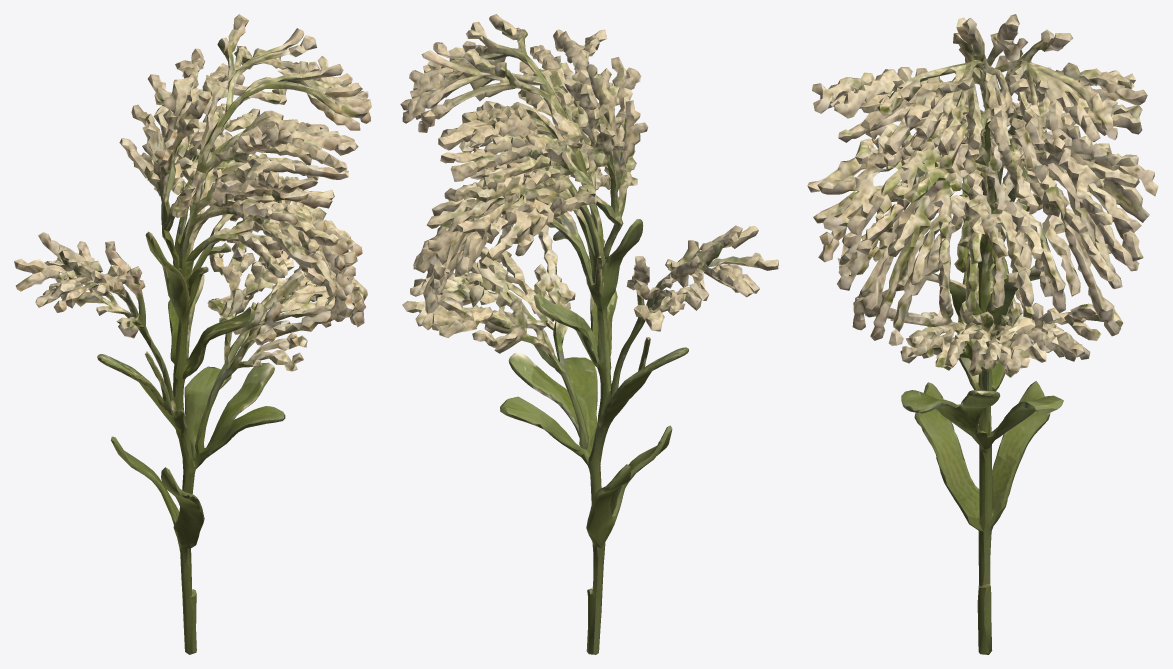
Rendered from lux-rice-flower.glb.
The picture shows the model from 3 angles, left to right: view 1: azimuth 30°, elevation 25°; view 2: azimuth 150°, elevation 25°; view 3: azimuth 270°, elevation 25°; orthographic projection. The views are drawn at different scales.
Visible parts, largest first — view 1: geometry_0; view 2: geometry_0; view 3: geometry_0.
Part boxes in pixels (bbox=[...]): geometry_0: bbox=[14, 14, 371, 654]; geometry_0: bbox=[400, 14, 778, 654]; geometry_0: bbox=[807, 14, 1158, 654].
Size of the model in its own units: 0.3874 by 0.65 by 0.3099.
Materials: 1 (1 with a texture image).
